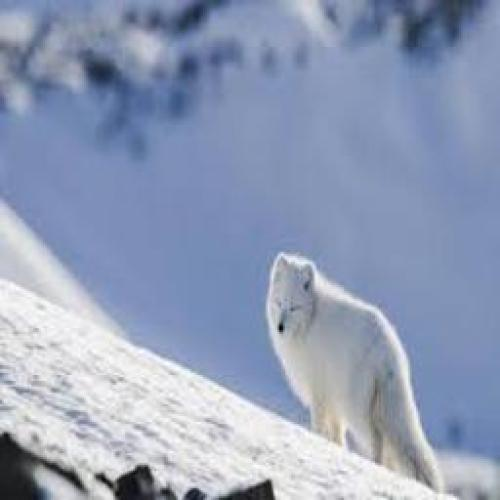arctic_fox-endangered: (262, 246, 445, 491)
